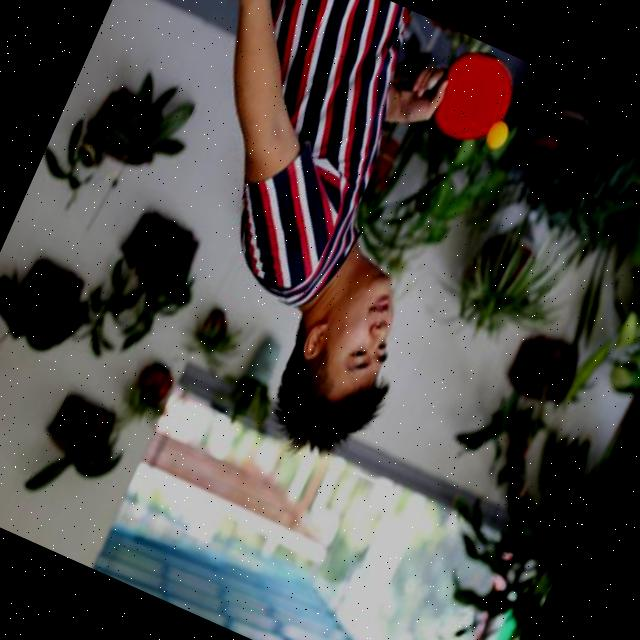ping-pong-ball: (482, 123, 510, 156)
